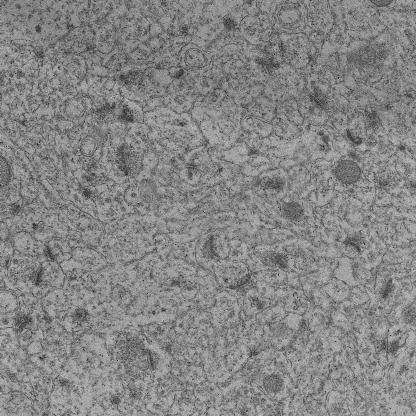mitochondria: (336, 157, 364, 187), (260, 370, 286, 394)
